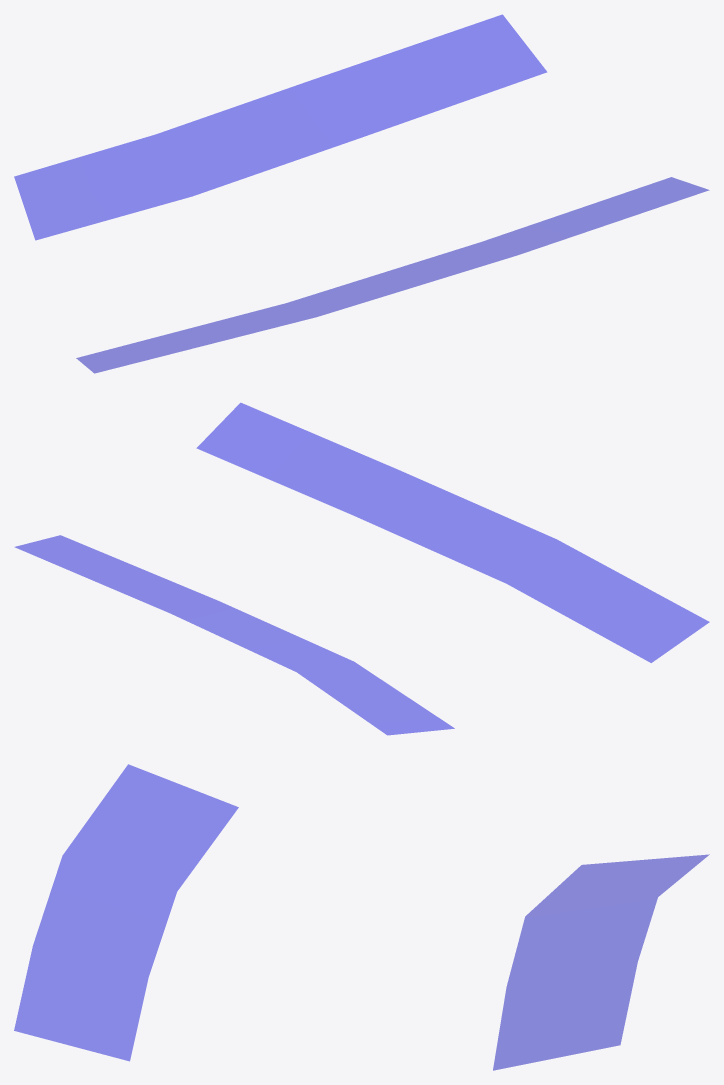
The model's file is track_la_coll_off_11.fbx.
3 renders of one model, top to bottom at view 1: azimuth 30°, elevation 25°; view 2: azimuth 150°, elevation 25°; view 3: azimuth 270°, elevation 25°, orthographic. The views are drawn at different scales.
Visible parts, largest first — view 1: track_la_coll_off_11; view 2: track_la_coll_off_11; view 3: track_la_coll_off_11.
Boxes of the visible parts, <box> form: track_la_coll_off_11: <box>14,14,709,373</box>; track_la_coll_off_11: <box>15,403,709,735</box>; track_la_coll_off_11: <box>14,764,709,1070</box>.
Size of the model in its own units: 54.59 by 8.56 by 42.1.
